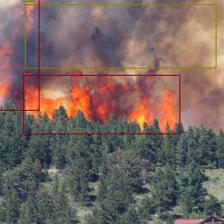fire: (23, 74, 180, 134), (0, 0, 39, 111)
smoke: (25, 4, 216, 68)
